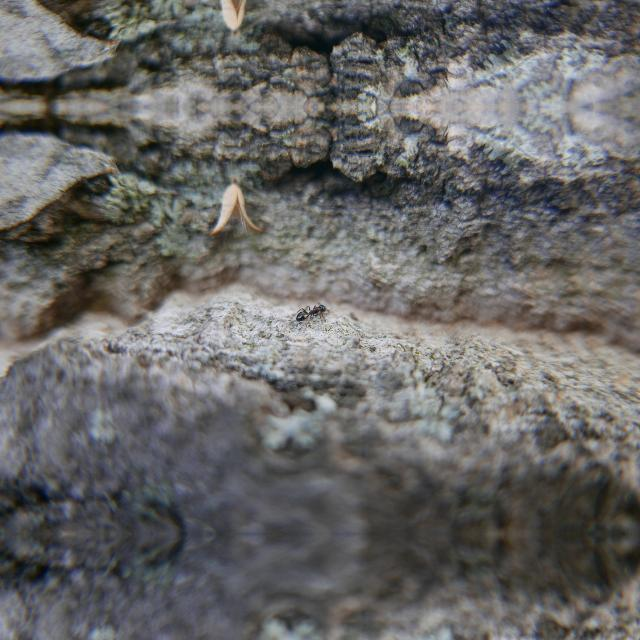Dolichoderus: (288, 298, 332, 324)
